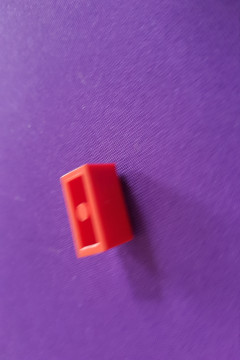1x2 red: (58, 160, 135, 263)
